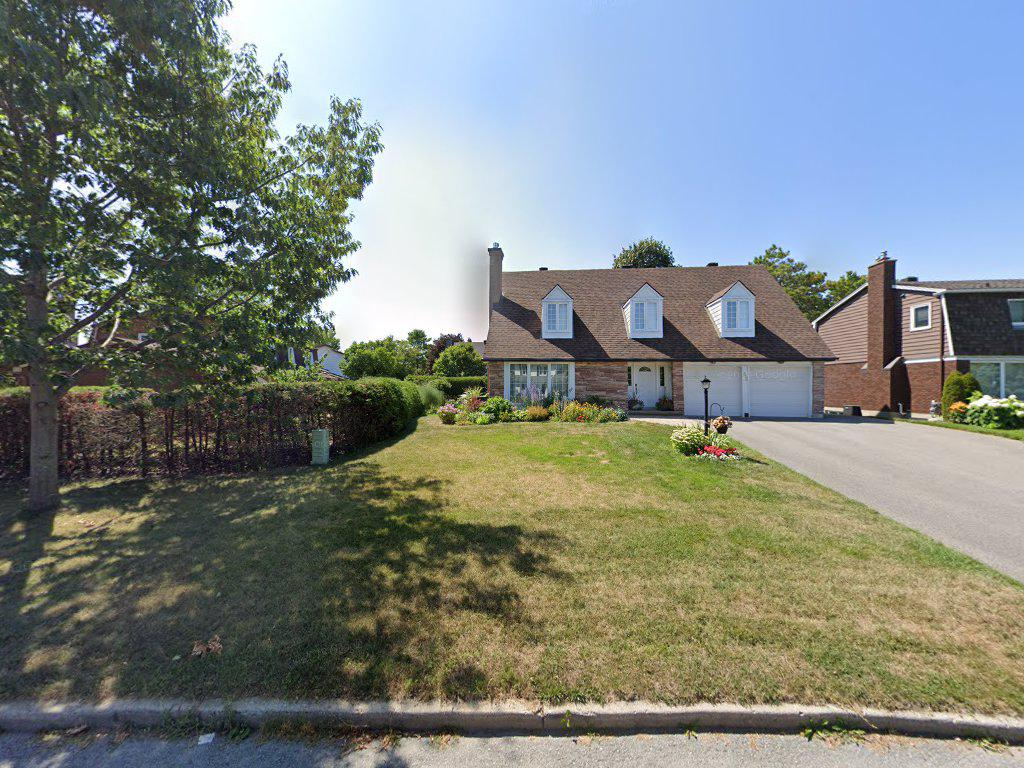trunk: (25, 318, 65, 514)
